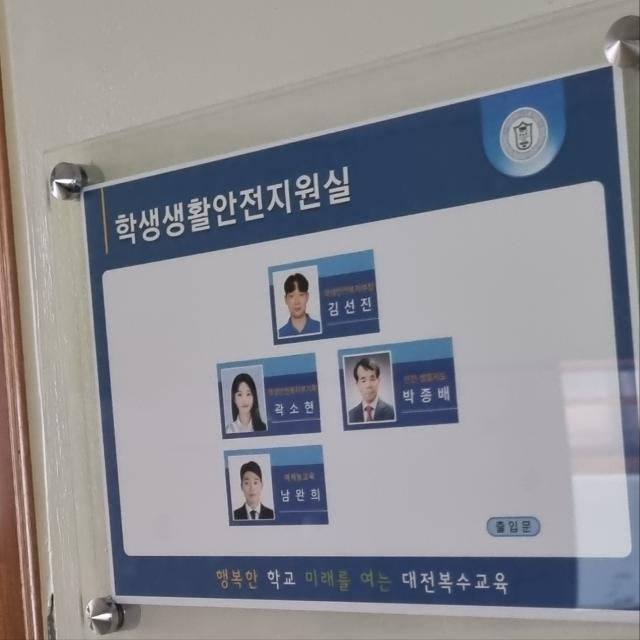logo: (489, 102, 552, 174)
